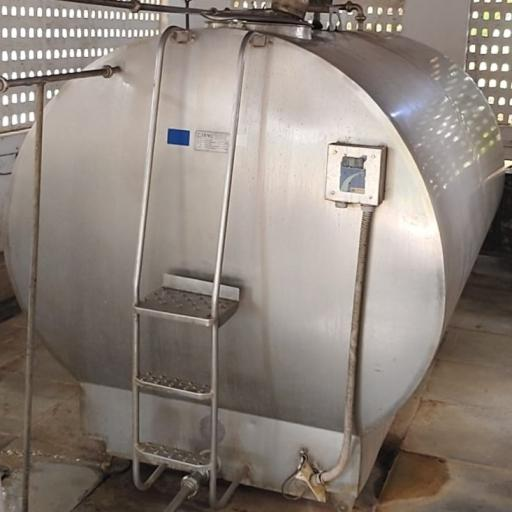silo: (2, 9, 505, 489)
